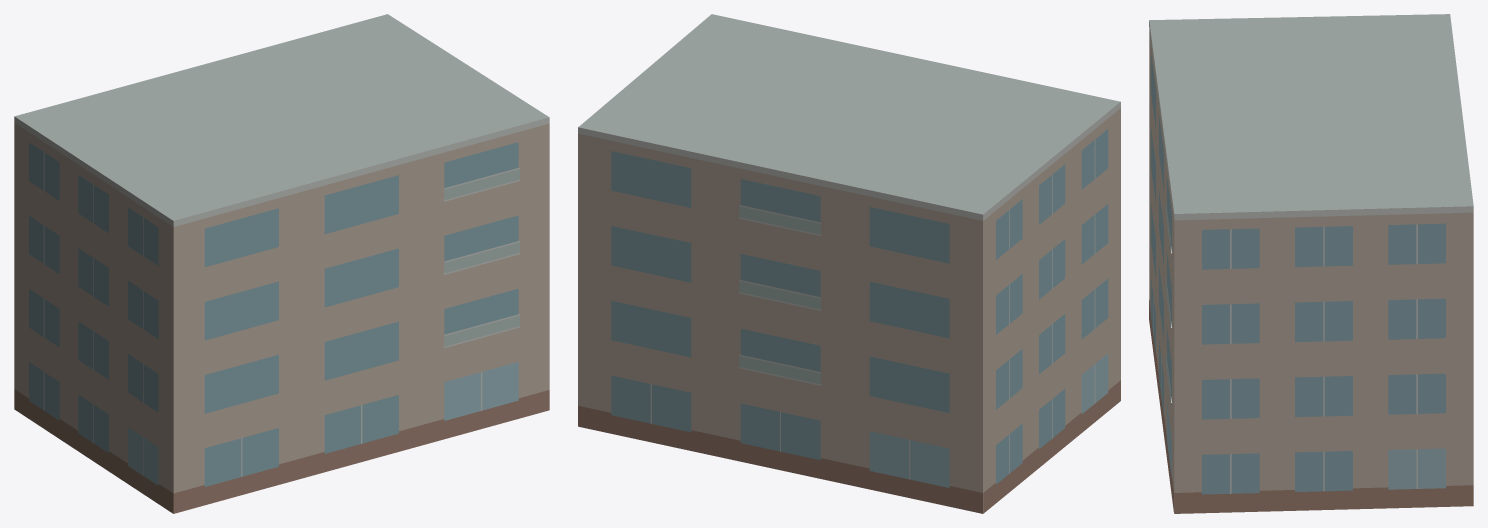
File: survey-upis-32977060.glb
3 renders of one model, left to right at view 1: azimuth 30°, elevation 25°; view 2: azimuth 150°, elevation 25°; view 3: azimuth 270°, elevation 25°, orthographic. The views are drawn at different scales.
Parts seen in each view (by area): view 1: survey-upis-32977060.tmp; view 2: survey-upis-32977060.tmp; view 3: survey-upis-32977060.tmp.
Part boxes in pixels (x1,y1,x2,y2): survey-upis-32977060.tmp: [14, 14, 549, 513]; survey-upis-32977060.tmp: [578, 14, 1120, 513]; survey-upis-32977060.tmp: [1149, 14, 1473, 513].
Size of the model in its own units: 16.61 by 11.6 by 11.39.
